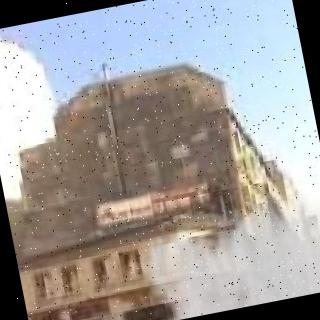smoke: (118, 164, 320, 320)
